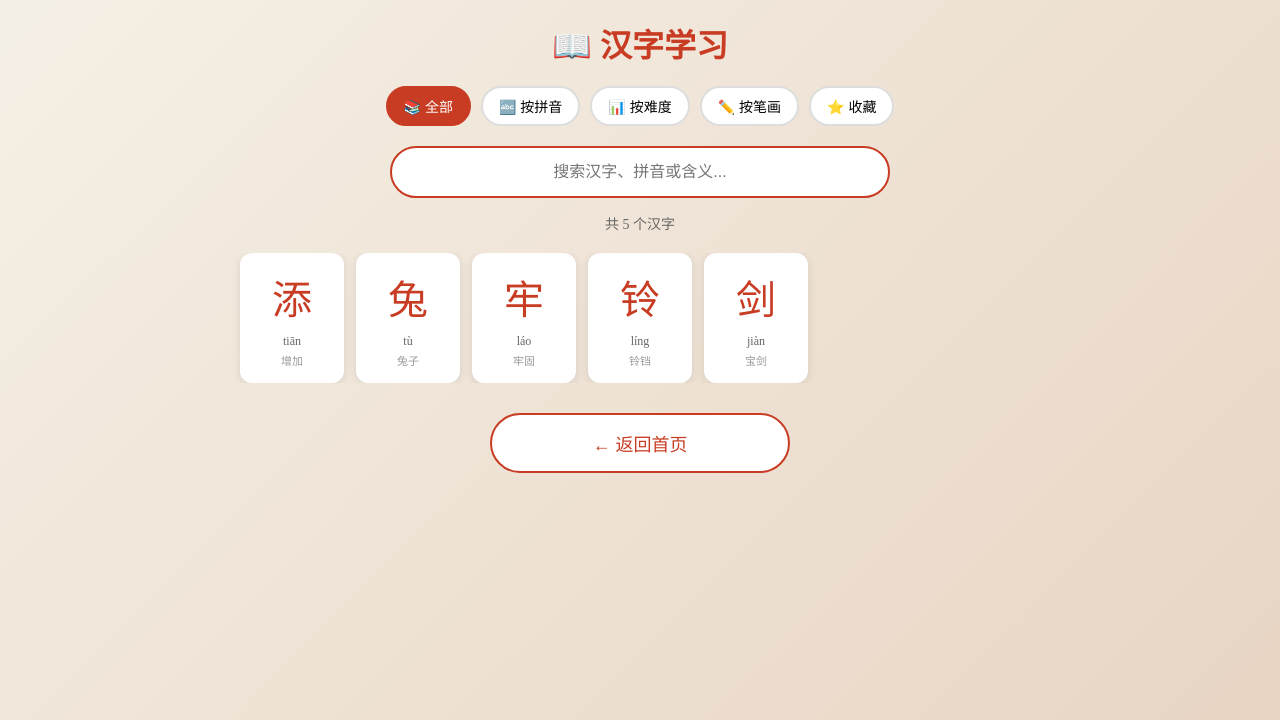
Learn page › Category switching › should switch to by-level mode
The image size is (1280, 720).
What coordinates should you click on to do the following:
click the button "📊 按难度"
I would click on:
 (640, 106)
Its box is 590,86 -> 690,126.
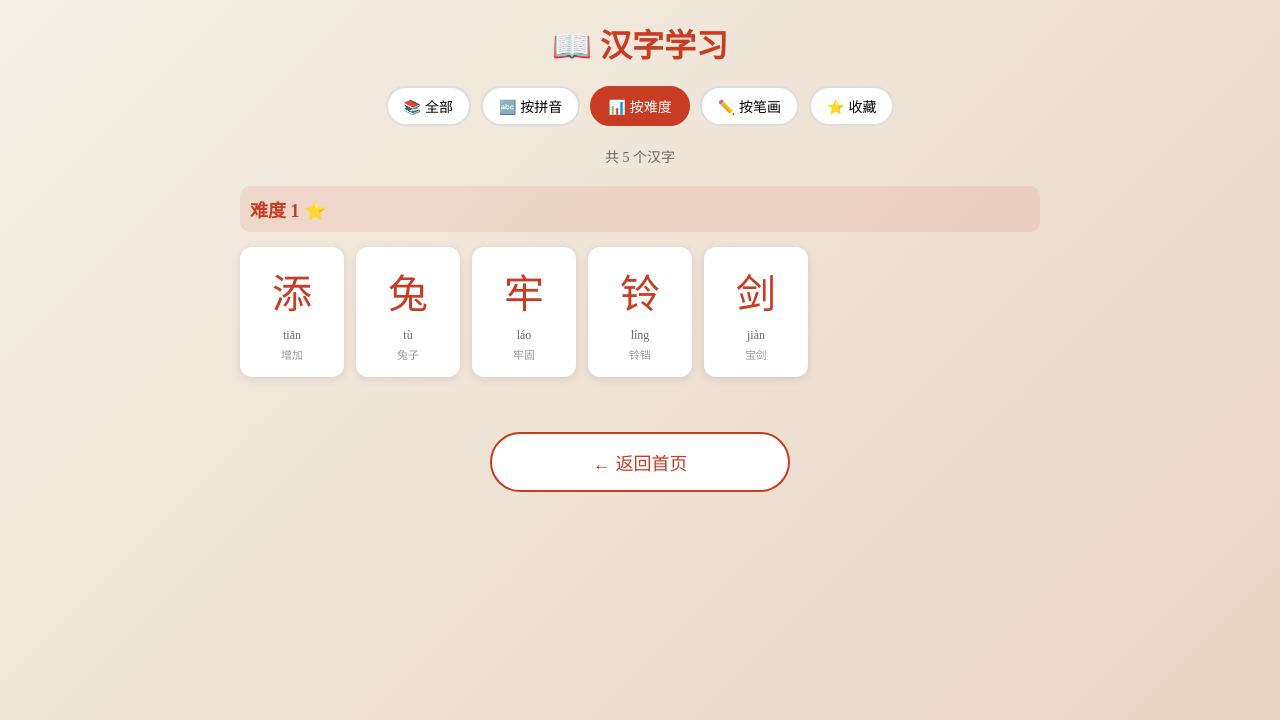
Now the text "难度 1 ⭐" is shown, box 240,186 -> 1040,232
